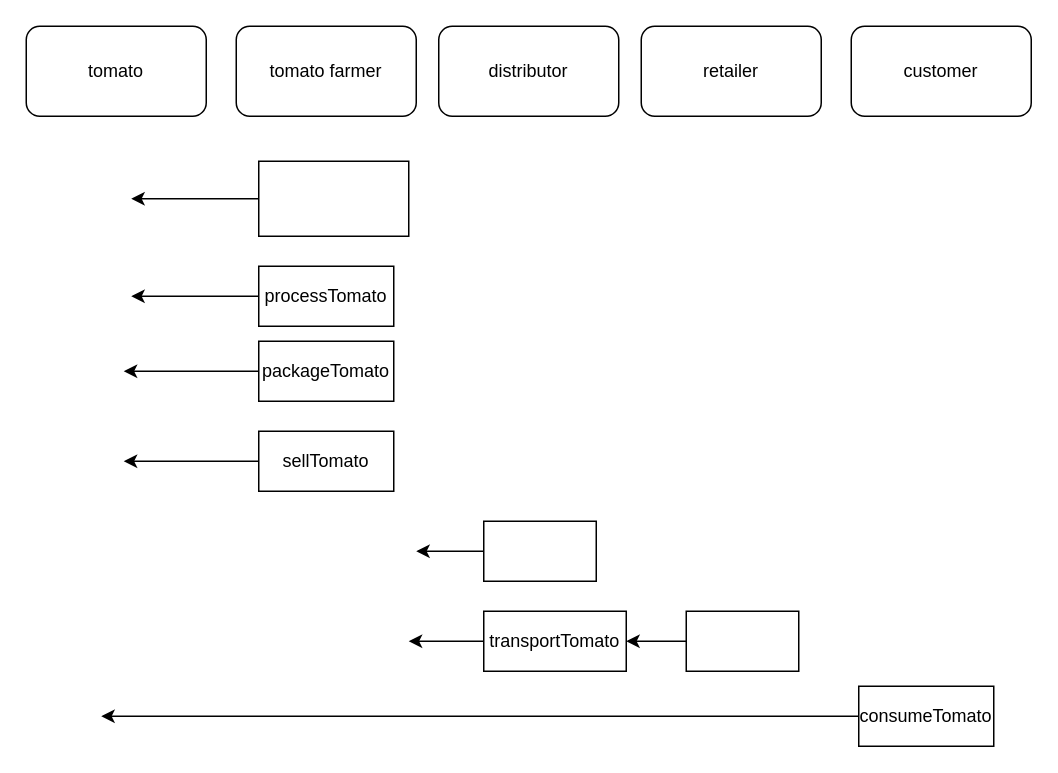
The diagram is 1058 pixels wide and 773 high, and some of its shapes have lost their labels. Each missing label, with the box of its shape:
buyTomato: (482, 520, 596, 581)
harvestTomato: (257, 160, 409, 236)
prepTomato: (685, 610, 799, 671)
